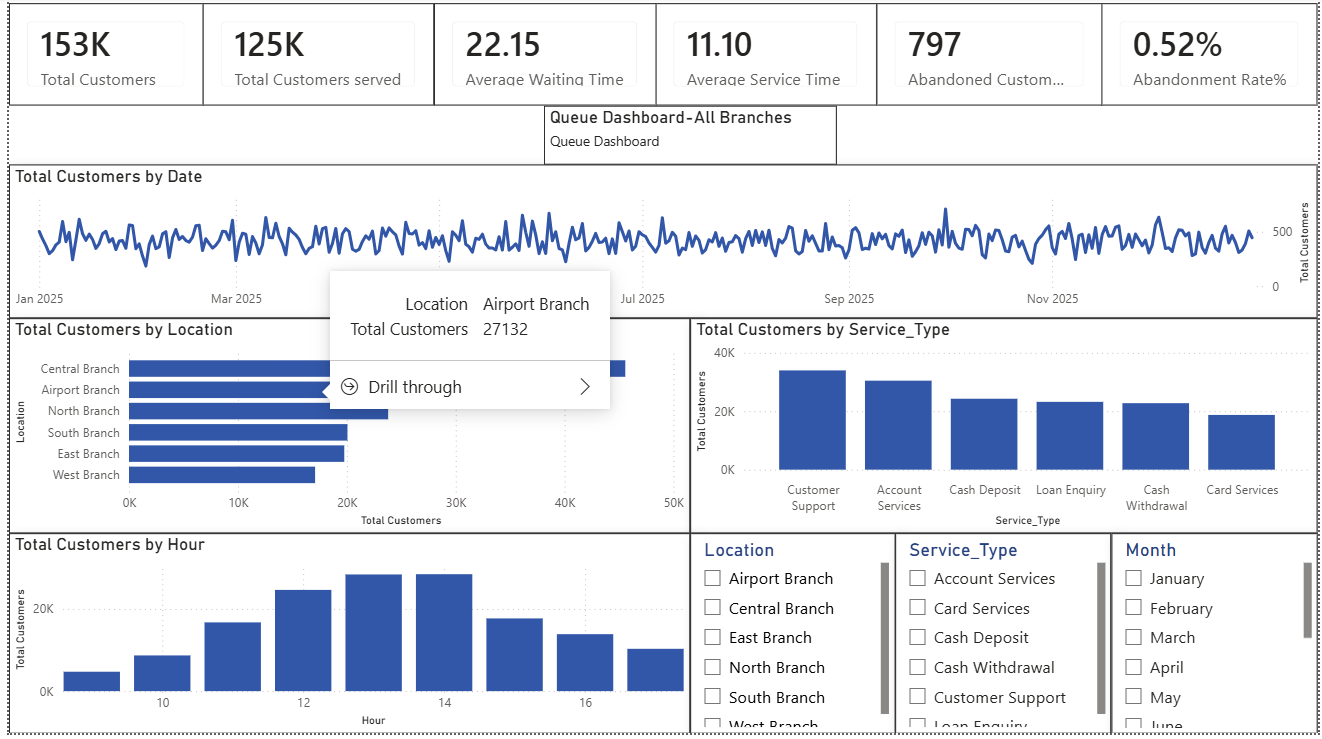

The dashboard page shown, as its layout file describes it:
{"tool":"powerbi","page":{"name":"Executive Dashboard","canvas":[1280,720],"ordinal":0},"visuals":[{"type":"cardVisual","fields":{"Data":["Allmeasures.Total Customers"]},"box":[0,6.1,190.8,100.3],"z":0},{"type":"cardVisual","fields":{"Data":["Allmeasures.Average Service Time"]},"box":[632.4,6.1,216.4,100.3],"z":1000},{"type":"cardVisual","fields":{"Data":["Allmeasures.Total Customers served"]},"box":[190,6.1,226.2,100.3],"z":2000},{"type":"cardVisual","fields":{"Data":["Allmeasures.Abandoned Customers"]},"box":[848.2,6.1,221.3,100.3],"z":3000},{"type":"cardVisual","fields":{"Data":["Allmeasures.Average Waiting Time"]},"box":[415.8,6.1,217.7,100.3],"z":4000},{"type":"cardVisual","fields":{"Data":["Allmeasures.Abandonment Rate%"]},"box":[1068.4,6.1,211.6,100.3],"z":5000},{"type":"lineChart","fields":{"Category":["Dim_Date.Date"],"Y2":["Allmeasures.Total Customers"]},"box":[0,163.9,1280.3,150.4],"z":6000},{"type":"clusteredBarChart","fields":{"Y":["Allmeasures.Total Customers"],"Category":["Dim_Location.Location"]},"box":[0,314.3,666.4,210.3],"z":7000},{"type":"clusteredColumnChart","fields":{"Category":["Dim_Service.Service_Type"],"Y":["Allmeasures.Total Customers"]},"box":[666.4,314.3,613.9,210.3],"z":8000},{"type":"clusteredColumnChart","fields":{"Category":["Fact_Queue.Hour"],"Y":["Allmeasures.Total Customers"]},"box":[0,524.6,666.4,195.7],"z":9000},{"type":"slicer","fields":{"Values":["Dim_Location.Location"]},"box":[666.4,524.6,200.5,195.7],"z":10000},{"type":"slicer","fields":{"Values":["Dim_Service.Service_Type"]},"box":[867,524.6,211.6,195.7],"z":11000},{"type":"slicer","fields":{"Values":["Dim_Date.Month"]},"box":[1078.5,524.6,201.8,195.7],"z":12000},{"type":"textbox","box":[523.4,106.4,286.1,57.5],"z":13000}]}

Visuals, with their boxes in screenshot pixels (x1, y1, x2, y2), scaled from the page's 1280x720 canvas onto the 1322x739 screenshot:
cardVisual - Allmeasures.Total Customers: (left=0, top=6, right=197, bottom=109)
cardVisual - Allmeasures.Average Service Time: (left=653, top=6, right=877, bottom=109)
cardVisual - Allmeasures.Total Customers served: (left=196, top=6, right=430, bottom=109)
cardVisual - Allmeasures.Abandoned Customers: (left=876, top=6, right=1105, bottom=109)
cardVisual - Allmeasures.Average Waiting Time: (left=429, top=6, right=654, bottom=109)
cardVisual - Allmeasures.Abandonment Rate%: (left=1103, top=6, right=1321, bottom=109)
lineChart - Dim_Date.Date x Allmeasures.Total Customers: (left=0, top=168, right=1321, bottom=323)
clusteredBarChart - Allmeasures.Total Customers x Dim_Location.Location: (left=0, top=323, right=688, bottom=538)
clusteredColumnChart - Dim_Service.Service_Type x Allmeasures.Total Customers: (left=688, top=323, right=1321, bottom=538)
clusteredColumnChart - Fact_Queue.Hour x Allmeasures.Total Customers: (left=0, top=538, right=688, bottom=738)
slicer - Dim_Location.Location: (left=688, top=538, right=895, bottom=738)
slicer - Dim_Service.Service_Type: (left=895, top=538, right=1114, bottom=738)
slicer - Dim_Date.Month: (left=1114, top=538, right=1321, bottom=738)
textbox: (left=541, top=109, right=836, bottom=168)
